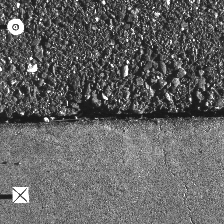circle: (6, 18, 24, 35)
crack: (1, 108, 223, 125)
square: (12, 187, 29, 203)
